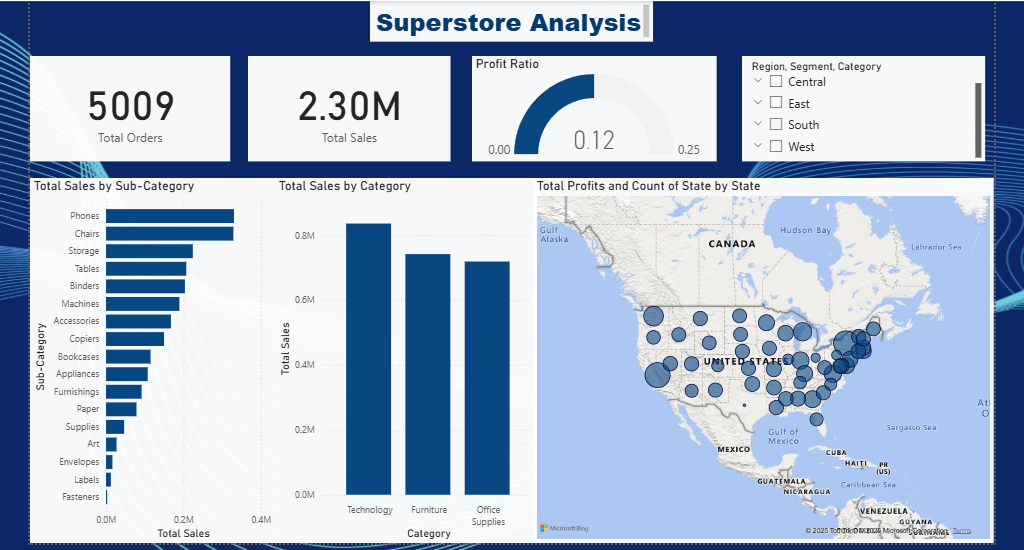

The page's visual inventory and layout, read from the dashboard file:
{"tool":"powerbi","page":{"name":"Page 1","canvas":[1280,720],"ordinal":0},"visuals":[{"type":"columnChart","fields":{"Category":["Sample - Superstore.Category"],"Y":["Sample - Superstore.Total Sales"]},"box":[326,235.3,351.5,484.8],"z":1000},{"type":"map","fields":{"Category":["Sample - Superstore.State"],"Size":["Sample - Superstore.Total Profits"]},"box":[667.6,235.3,612.4,484.8],"z":2000},{"type":"barChart","fields":{"Category":["Sample - Superstore.Sub-Category"],"Y":["Sample - Superstore.Total Sales"]},"box":[0,235.3,326,484.8],"z":3000},{"type":"slicer","fields":{"Values":["Sample - Superstore.Region","Sample - Superstore.Segment","Sample - Superstore.Category"]},"box":[945.5,73.7,323.2,140.3],"z":4000},{"type":"gauge","fields":{"Y":["Sample - Superstore.Profit Ratio"]},"box":[586.8,73.7,324.6,140.3],"z":4001},{"type":"card","fields":{"Values":["Sample - Superstore.Total Orders"]},"box":[0,73.7,266.5,140.3],"z":4002},{"type":"card","fields":{"Values":["Sample - Superstore.Total Sales"]},"box":[289.2,73.7,269.3,140.3],"z":4004},{"type":"textbox","box":[452.2,0,375.6,53.9],"z":4005}]}

Visuals, with their boxes in screenshot pixels (x1, y1, x2, y2):
columnChart - Sample - Superstore.Category x Sample - Superstore.Total Sales: x1=272 y1=174 x2=536 y2=539
map - Sample - Superstore.State x Sample - Superstore.Total Profits: x1=529 y1=174 x2=990 y2=539
barChart - Sample - Superstore.Sub-Category x Sample - Superstore.Total Sales: x1=27 y1=174 x2=272 y2=539
slicer - Sample - Superstore.Region x Sample - Superstore.Segment: x1=738 y1=53 x2=981 y2=158
gauge - Sample - Superstore.Profit Ratio: x1=468 y1=53 x2=712 y2=158
card - Sample - Superstore.Total Orders: x1=27 y1=53 x2=227 y2=158
card - Sample - Superstore.Total Sales: x1=244 y1=53 x2=447 y2=158
textbox: x1=367 y1=0 x2=650 y2=38
